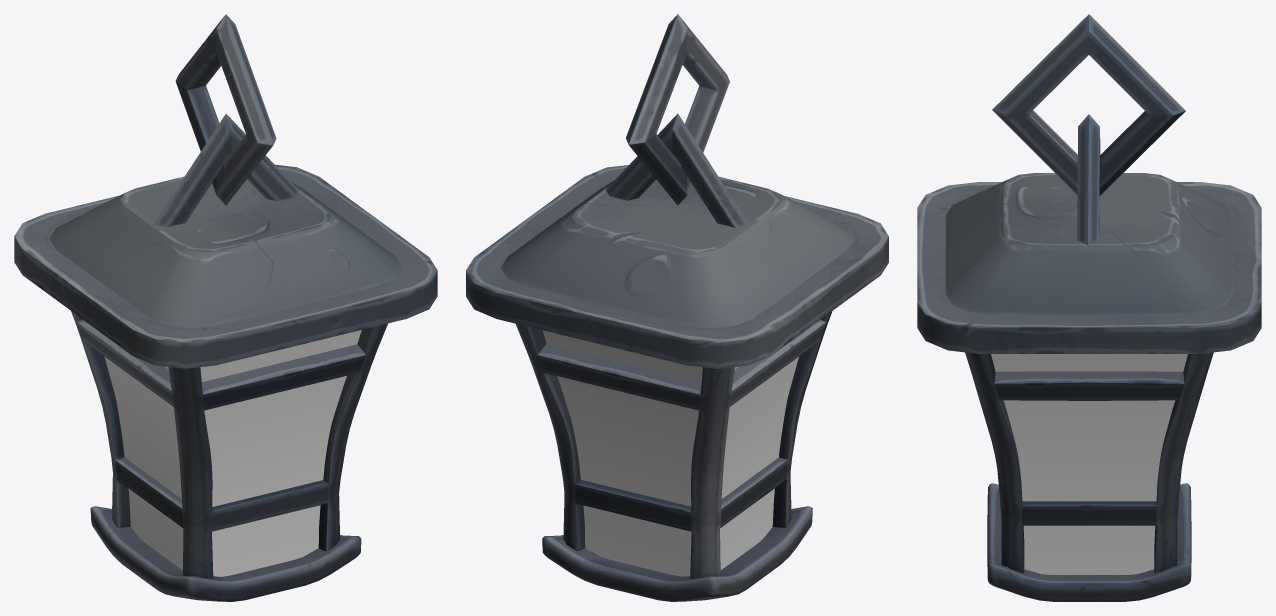
Rendered from SM_Lantern_01.gltf.
The picture shows the model from 3 angles, left to right: view 1: azimuth 30°, elevation 25°; view 2: azimuth 150°, elevation 25°; view 3: azimuth 270°, elevation 25°; orthographic projection.
Parts seen in each view (by area): view 1: SM_Lantern_01_LOD0; view 2: SM_Lantern_01_LOD0; view 3: SM_Lantern_01_LOD0.
Part boxes in pixels (box(x1,y1,x2,y2)): SM_Lantern_01_LOD0: box(14, 14, 437, 601); SM_Lantern_01_LOD0: box(466, 14, 888, 601); SM_Lantern_01_LOD0: box(917, 14, 1261, 601).
Size of what is drawn, in the model's own units: 0.3298 by 0.5846 by 0.3298.
Materials: 3 (1 with a texture image).
